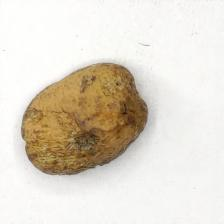NG: (61, 120, 112, 166), (118, 70, 150, 130)
